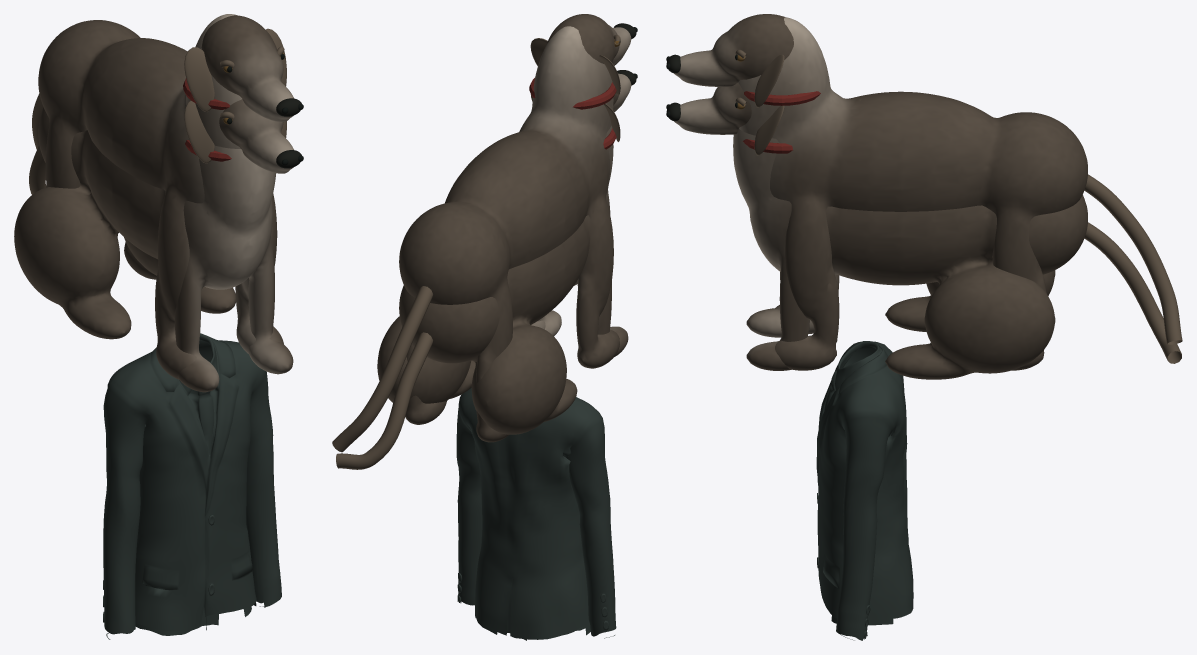
File: encounter-props-v5.glb
The picture shows the model from 3 angles, left to right: view 1: azimuth 30°, elevation 25°; view 2: azimuth 150°, elevation 25°; view 3: azimuth 270°, elevation 25°; orthographic projection. The views are drawn at different scales.
Parts seen in each view (by area): view 1: EmptyCoat, DogSitBody, DogStandBody, DogStandHeadSurface, DogSitHeadSurface, Folded velvet ear, Folded velvet ear.002, Tail.001; view 2: DogStandBody, EmptyCoat, DogSitBody, Tail, Tail.001, DogStandHeadSurface, Dog collar; view 3: DogStandBody, DogSitBody, EmptyCoat, DogStandHeadSurface, Tail, DogSitHeadSurface, Tail.001, Folded velvet ear.001.
Boxes of the visible parts, x1,y1,x2,y2 form: EmptyCoat: [103, 333, 281, 639]; DogSitBody: [14, 107, 293, 392]; DogStandBody: [38, 14, 283, 379]; DogStandHeadSurface: [201, 15, 294, 122]; DogSitHeadSurface: [219, 99, 293, 173]; Folded velvet ear: [184, 47, 214, 111]; Folded velvet ear.002: [184, 100, 214, 163]; Tail.001: [29, 145, 46, 194]; DogStandBody: [399, 26, 619, 442]; EmptyCoat: [456, 388, 616, 640]; DogSitBody: [377, 125, 628, 434]; Tail: [332, 286, 432, 452]; Tail.001: [336, 332, 432, 469]; DogStandHeadSurface: [547, 14, 631, 65]; Dog collar: [529, 78, 616, 109]; DogStandBody: [738, 17, 1087, 370]; DogSitBody: [733, 129, 1087, 379]; EmptyCoat: [816, 341, 913, 640]; DogStandHeadSurface: [673, 14, 793, 86]; Tail: [1084, 174, 1182, 344]; DogSitHeadSurface: [674, 82, 751, 134]; Tail.001: [1084, 222, 1181, 363]; Folded velvet ear.001: [754, 54, 784, 107].
Bounding box in the file's own units: 0.5967 × 1.96 × 1.56.
